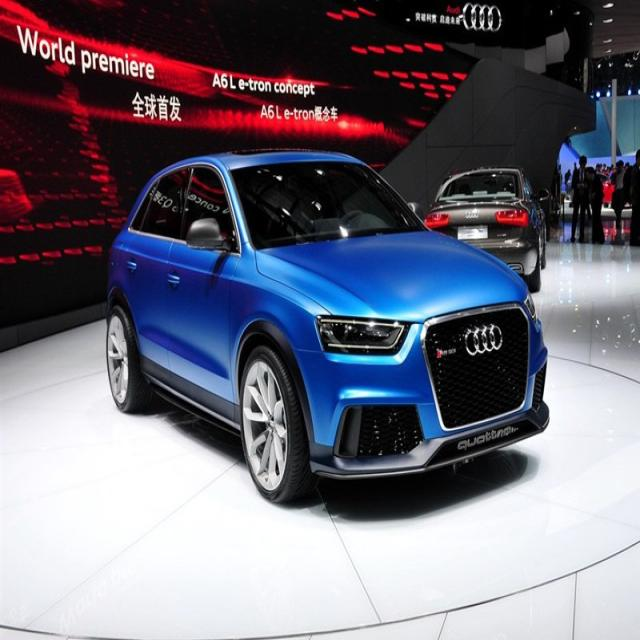front_bumper: (286, 399, 554, 483)
front_glass: (227, 158, 430, 252)
front_left_side_mirror: (406, 199, 426, 220)
front_right_side_door: (165, 160, 238, 427)
front_right_side_light: (314, 311, 407, 359)
front_right_side_mirror: (185, 215, 236, 252)
wheel: (239, 346, 314, 508), (106, 305, 150, 414)
